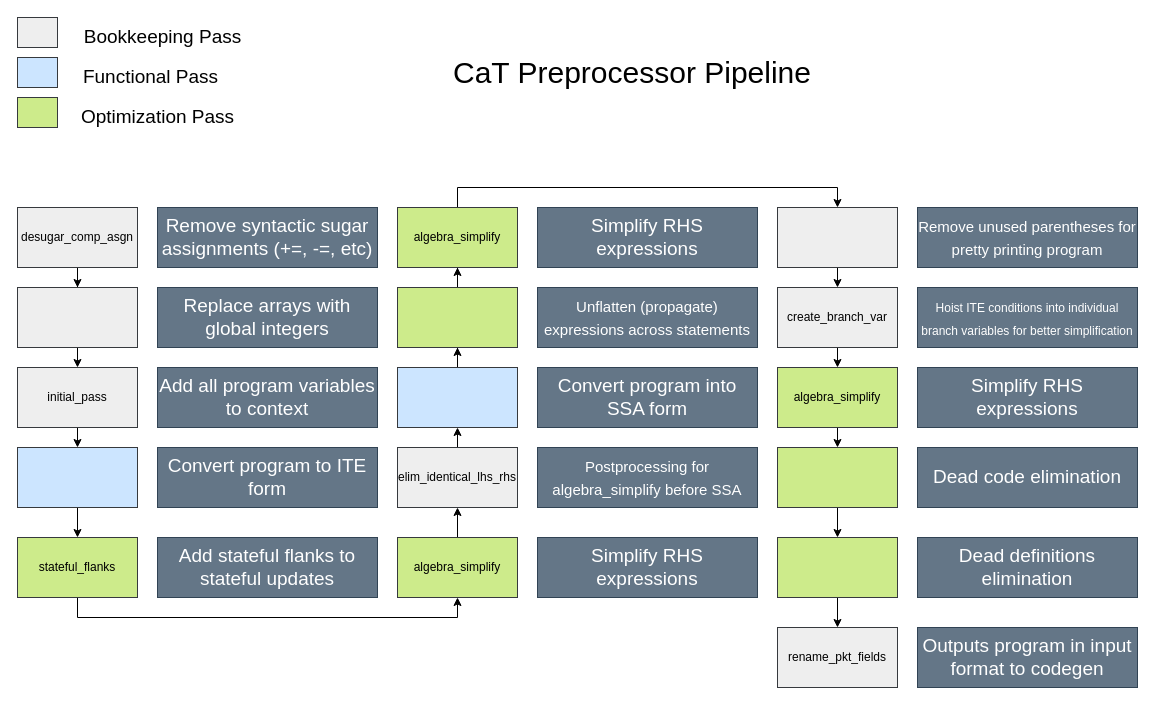
This 1155x705 diagram has some shape labels left out. The shapes that lost their labels are listed below. From the top down, each one's centre as x and y in pixels, then its label:
At [837,237]: "paren_remover".
At [77,317]: "array_replacer".
At [457,317]: "expr_propagator".
At [457,397]: "ssa".
At [77,477]: "if_converter".
At [837,477]: "dce".
At [837,567]: "dde".
